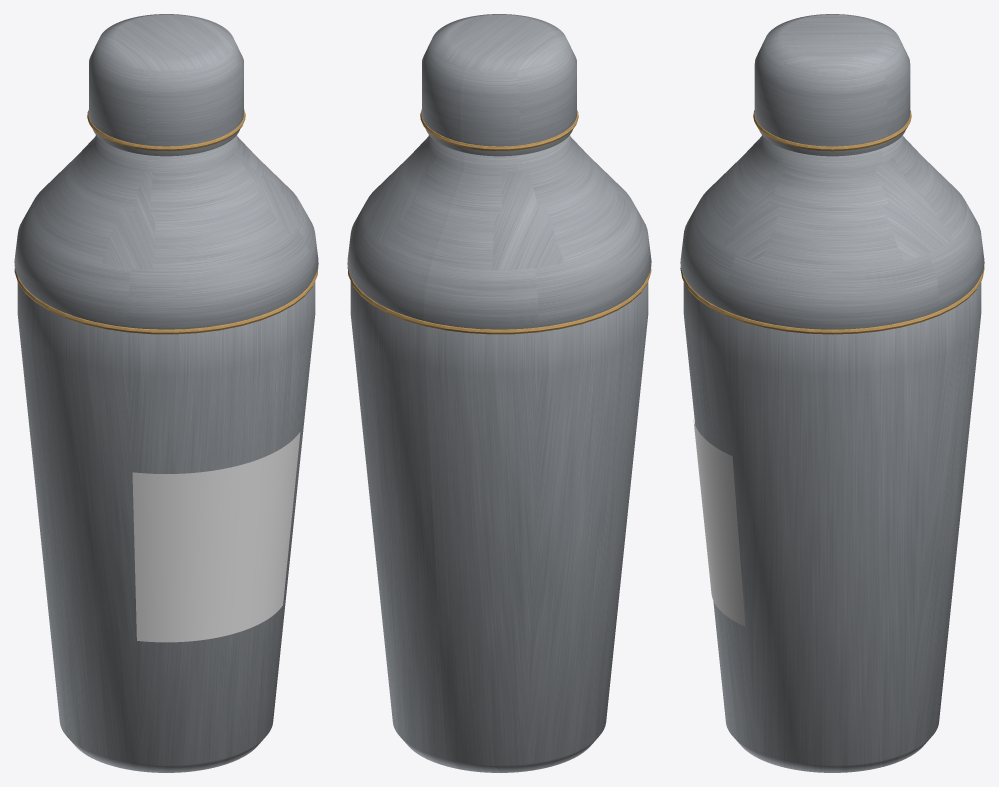
File: preview.glb
The picture shows the model from 3 angles, left to right: view 1: azimuth 30°, elevation 25°; view 2: azimuth 150°, elevation 25°; view 3: azimuth 270°, elevation 25°; orthographic projection.
Parts seen in each view (by area): view 1: Shaker; view 2: Shaker; view 3: Shaker.
Part boxes in pixels (x1,y1,x2,y2): Shaker: (14, 14, 318, 772); Shaker: (347, 14, 651, 772); Shaker: (680, 14, 984, 772).
Size of the model in its own units: 0.094 by 0.237 by 0.094.
3 materials, 2 textured.
